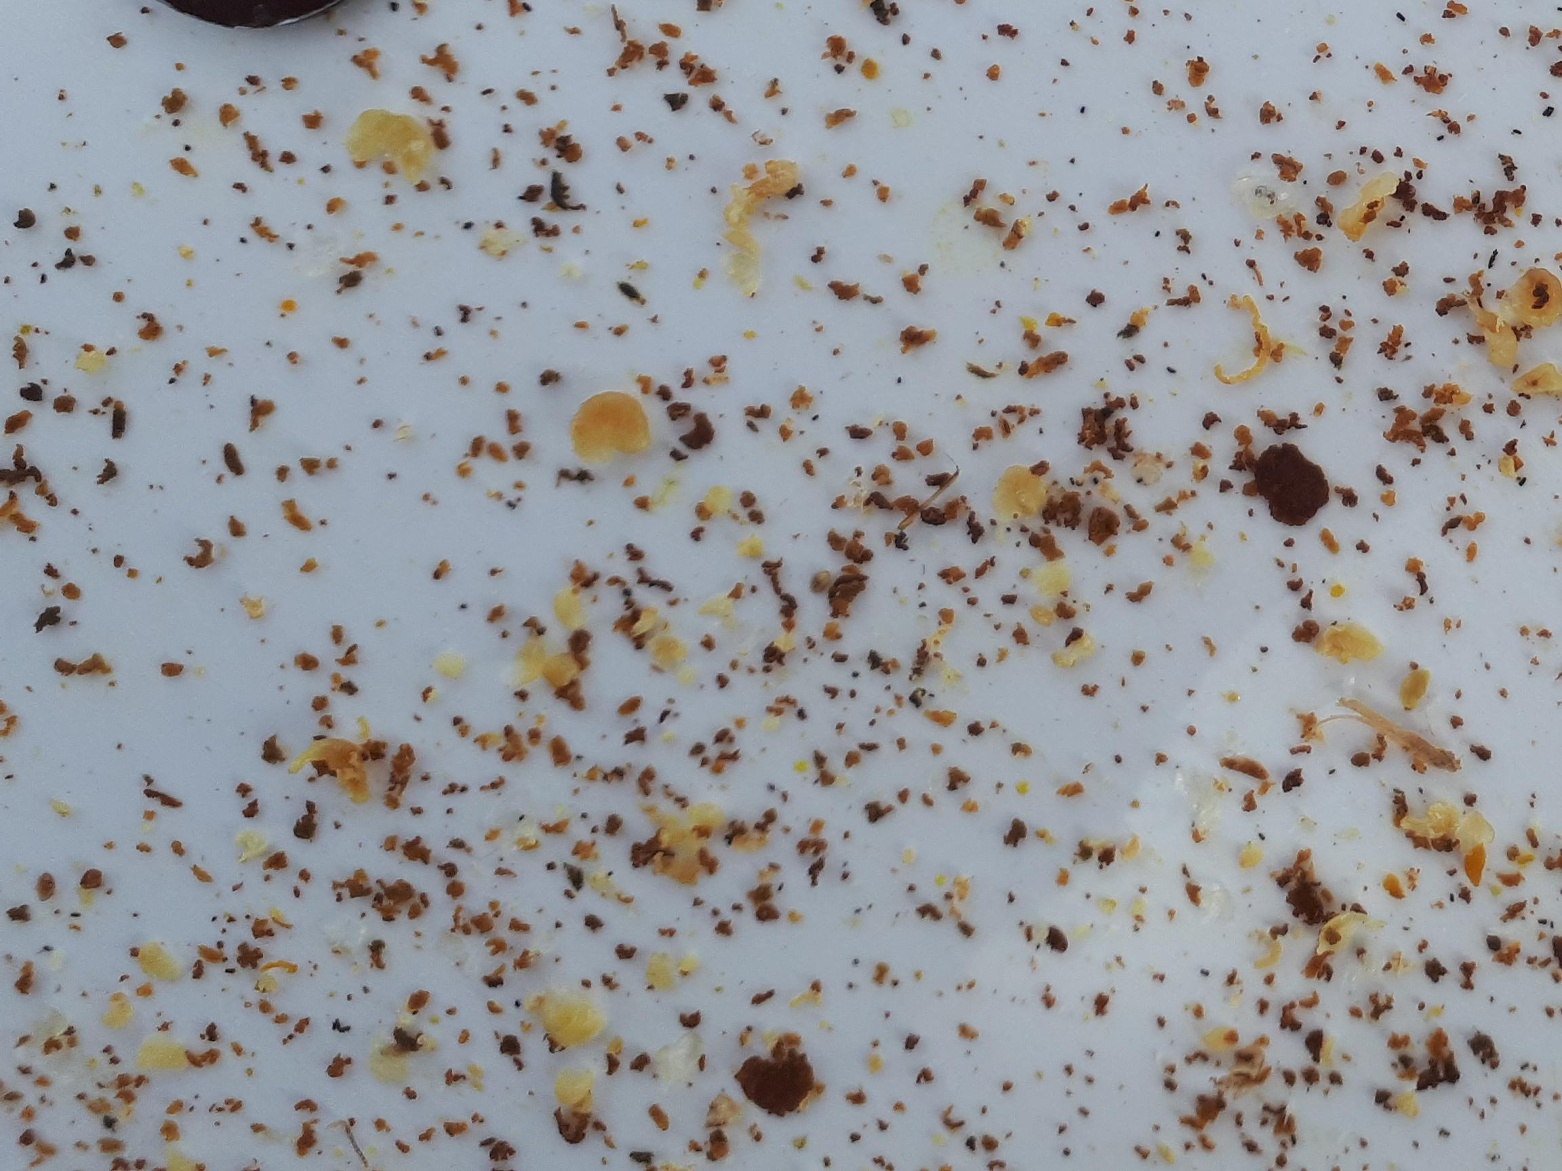Varroa: (25, 867, 63, 904)
